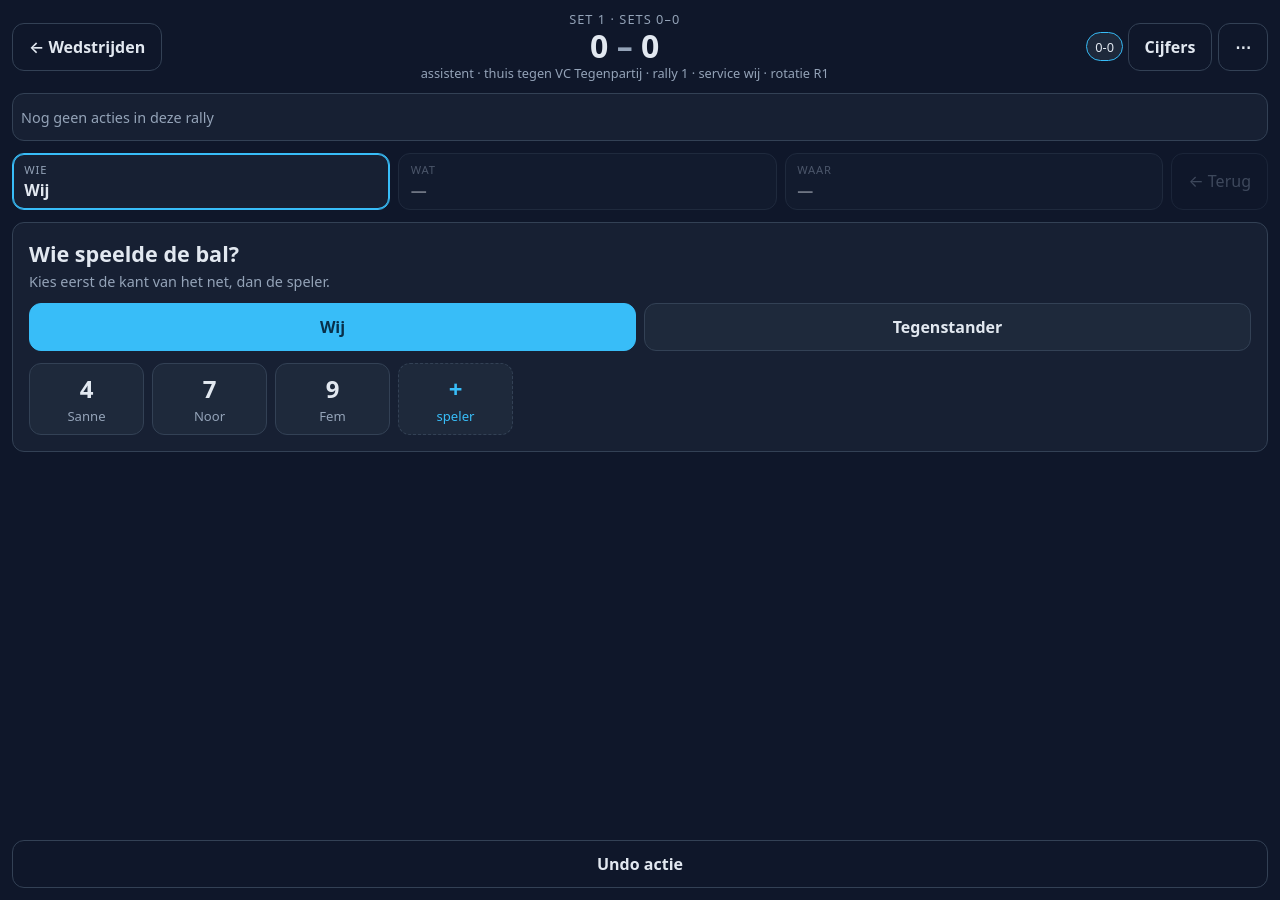
Test: ScoringScreen als assistent › rondt de rally niet af bij een beëindigende actie
The width and height of the screenshot is (1280, 900).
Check: the text "Nog geen acties in deze rally" is shown, box [21,108,214,127]
What coordinates should you click on to do the following:
click the button with aria-label "#9 Fem"
I would click on:
 (332, 399)
Its box is [275,363,390,435].
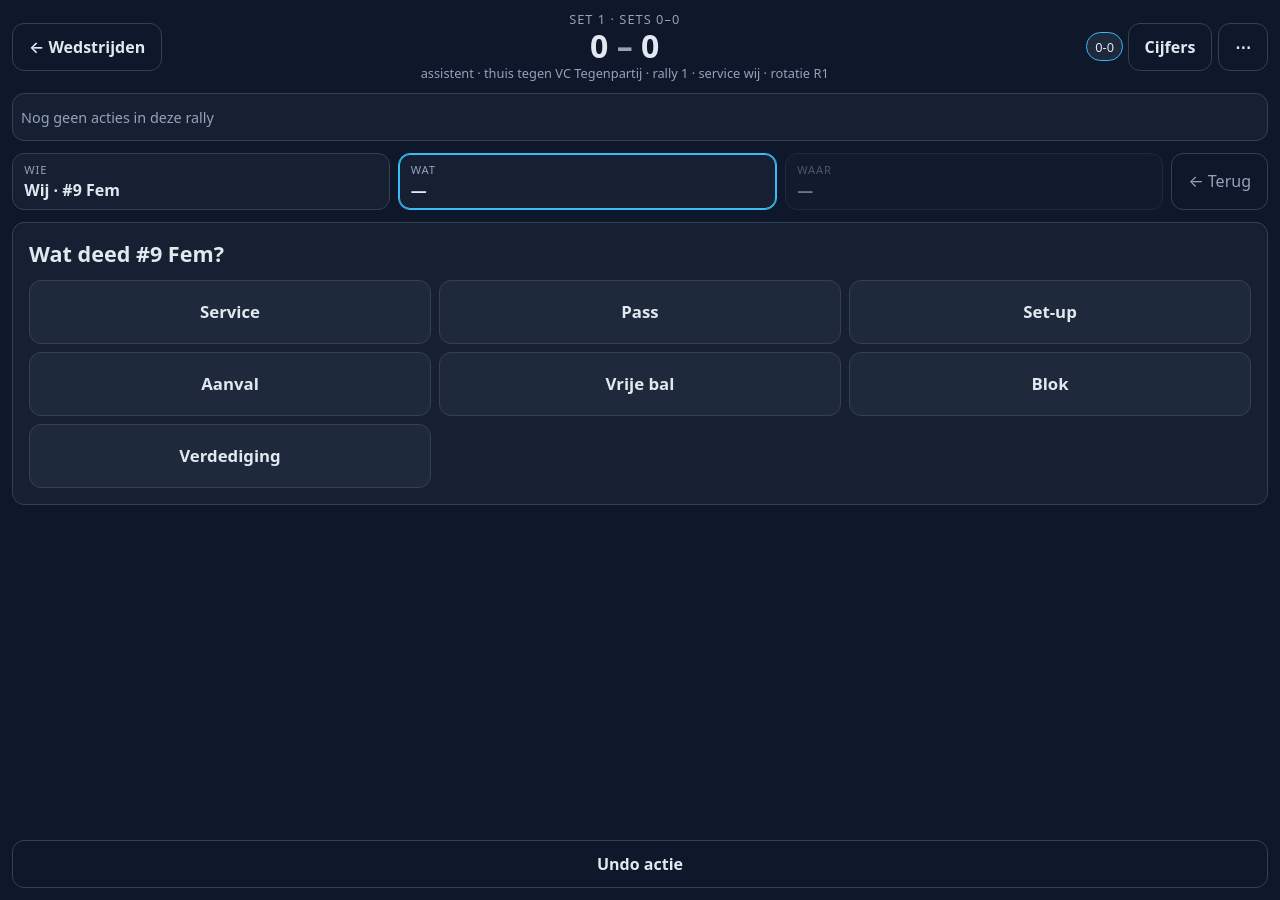
What coordinates should you click on to do the following:
click the button "Aanval"
I would click on:
 (230, 384)
Its box is [29,352,431,416].
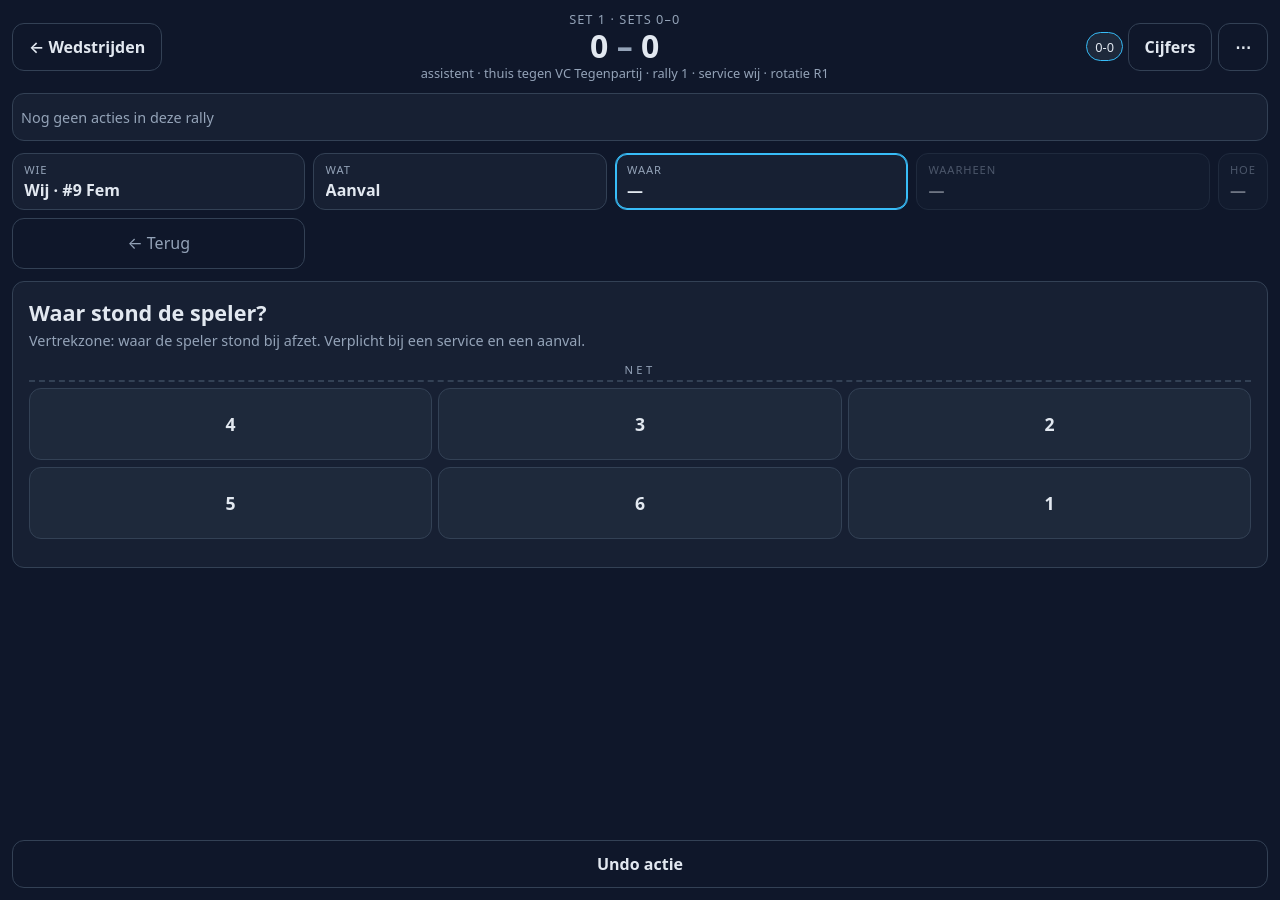
What coordinates should you click on to do the following:
click the button named "Zone 4 (linksvoor)"
I would click on:
 (231, 424)
Its box is [29,388,432,460].
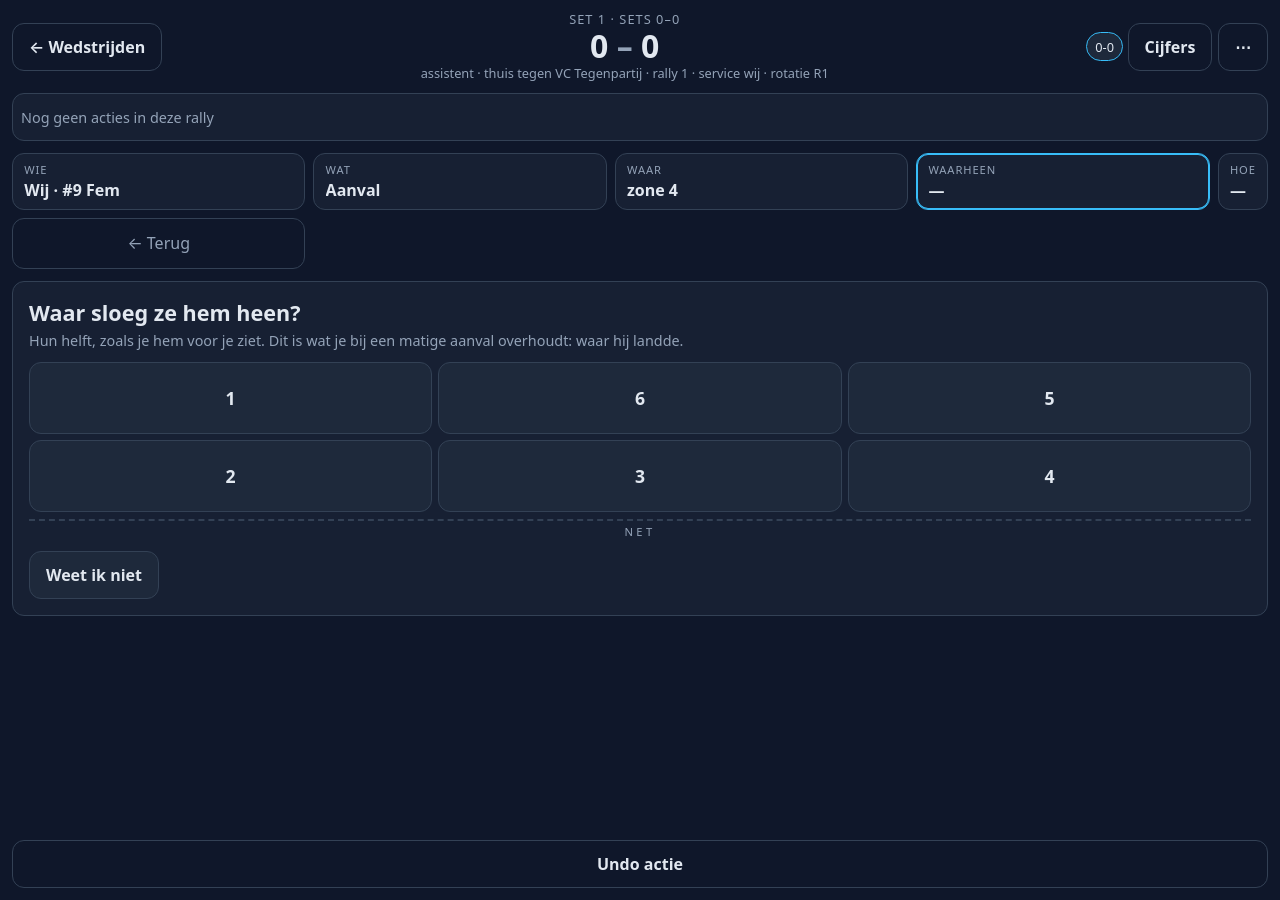
What coordinates should you click on to do the following:
click the button "Weet ik niet"
I would click on:
 (94, 575)
Its box is [29,551,159,599].
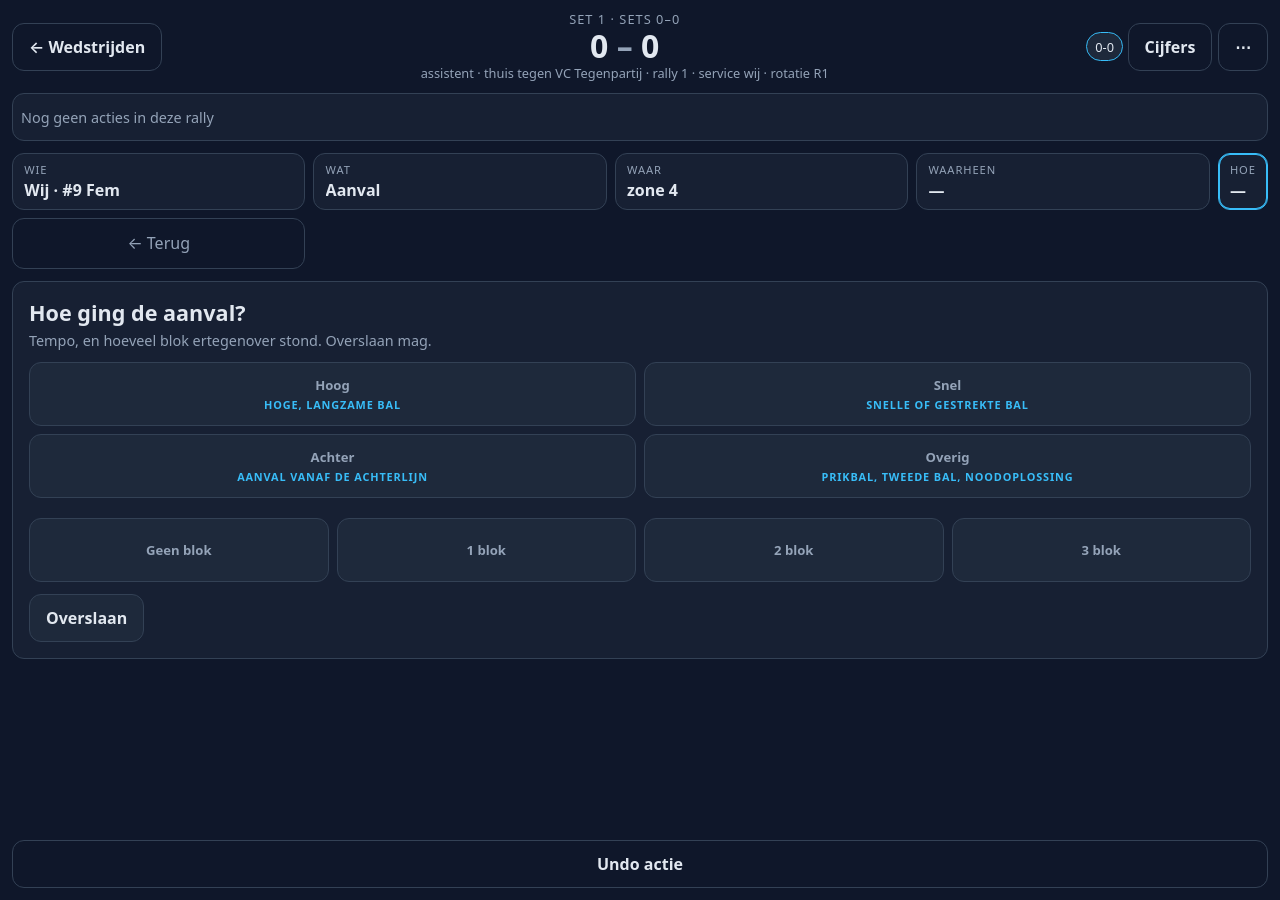
What coordinates should you click on to do the following:
click the button "Overslaan"
I would click on:
 (87, 618)
Its box is [29,594,144,642].
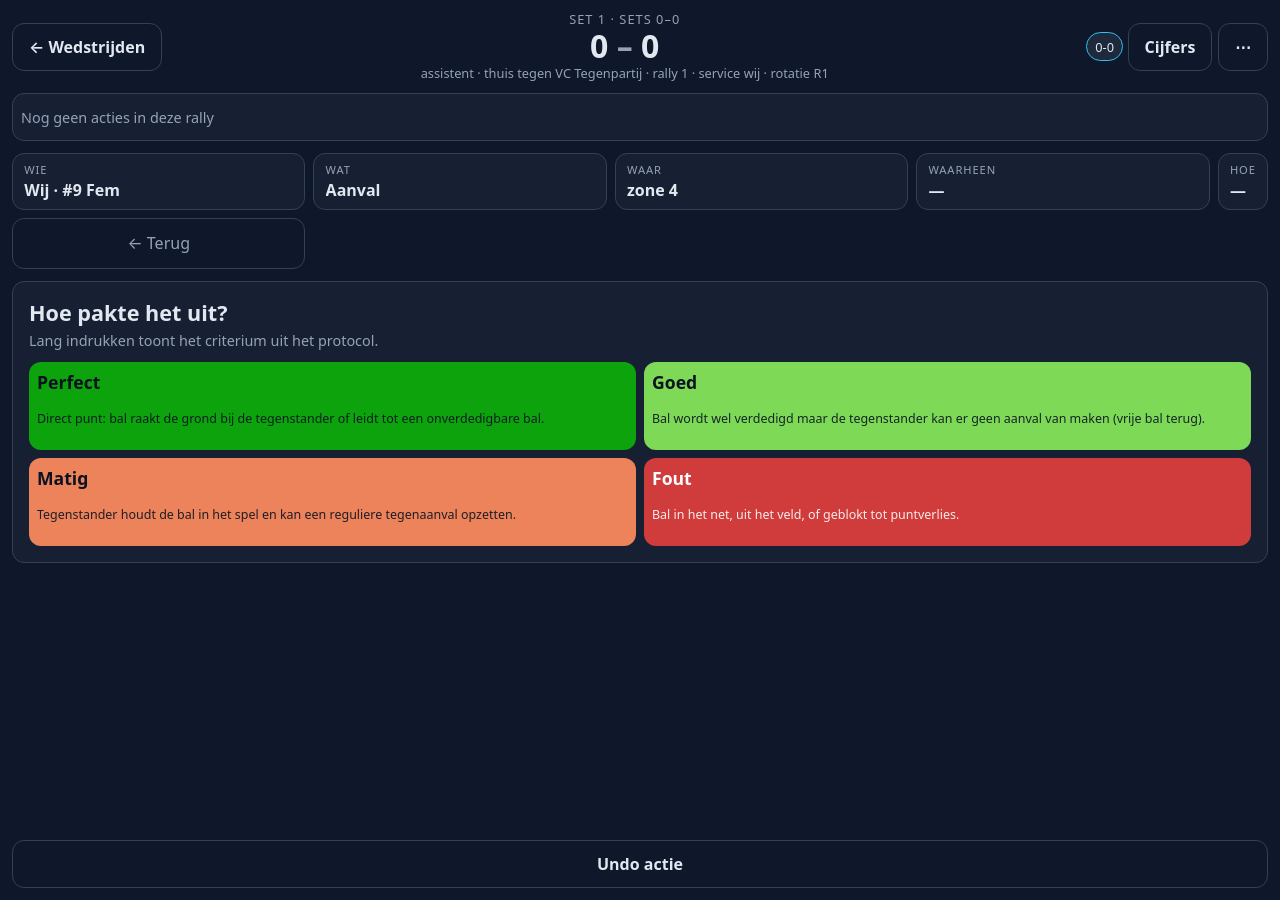
What coordinates should you click on to do the following:
click the button "Fout"
I would click on:
 (672, 478)
Its box is [644,458,1251,546].
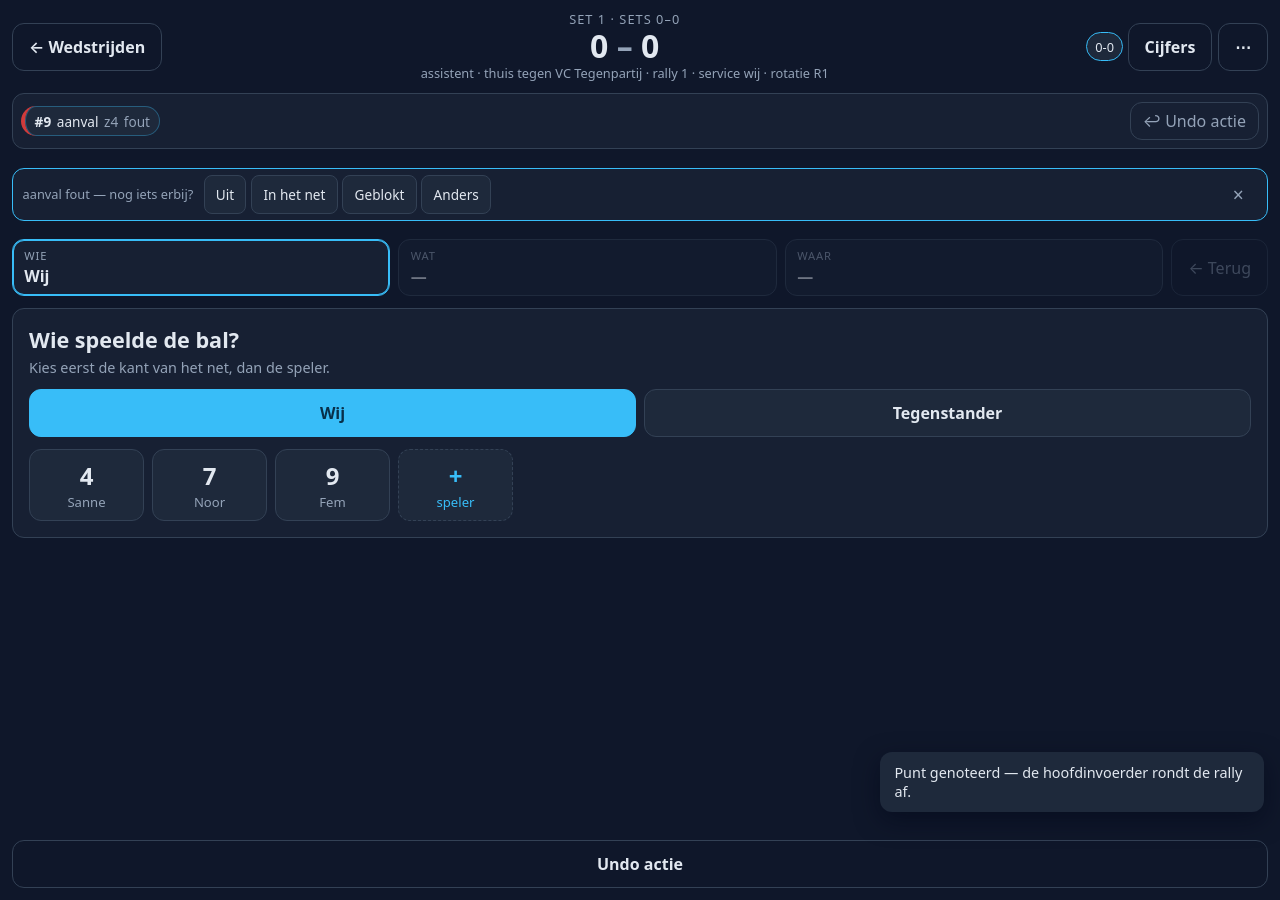
Check: the button "Punt genoteerd — de hoofdinvoerder rondt de rally af." is shown, box [880,752,1264,812]
